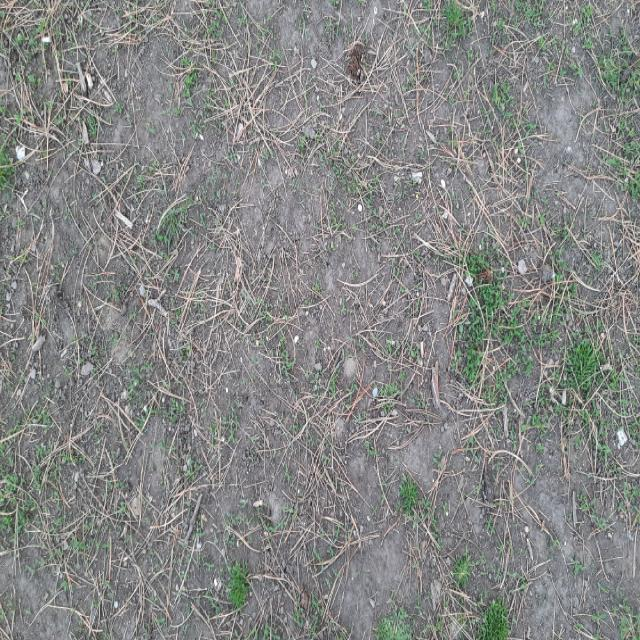grass: (289, 73, 639, 639), (121, 201, 294, 533), (0, 424, 135, 570), (381, 451, 460, 564), (415, 0, 488, 49), (205, 559, 250, 626), (374, 599, 415, 639)
white-sand: (6, 0, 594, 638)
